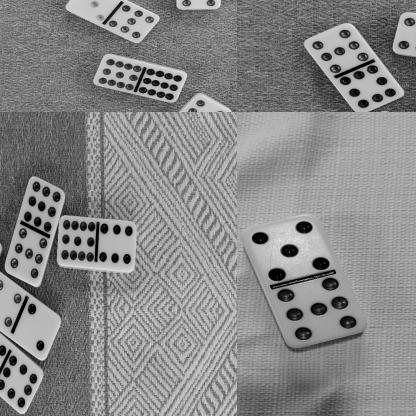pip-11: (57, 214, 95, 269), (93, 54, 143, 91)
pip-12: (138, 67, 186, 102)
pip-2: (14, 303, 60, 359)
pip-3: (64, 0, 116, 21)
pip-4: (0, 271, 21, 325)
pip-5: (239, 214, 330, 281)
pip-6: (97, 218, 136, 272)
pip-7: (275, 277, 365, 348), (302, 22, 368, 73), (4, 226, 46, 286), (108, 3, 159, 42), (178, 90, 231, 112), (391, 11, 416, 57), (174, 0, 220, 9)
pip-8: (339, 64, 404, 112), (0, 353, 42, 413)
pip-9: (23, 175, 64, 230)
